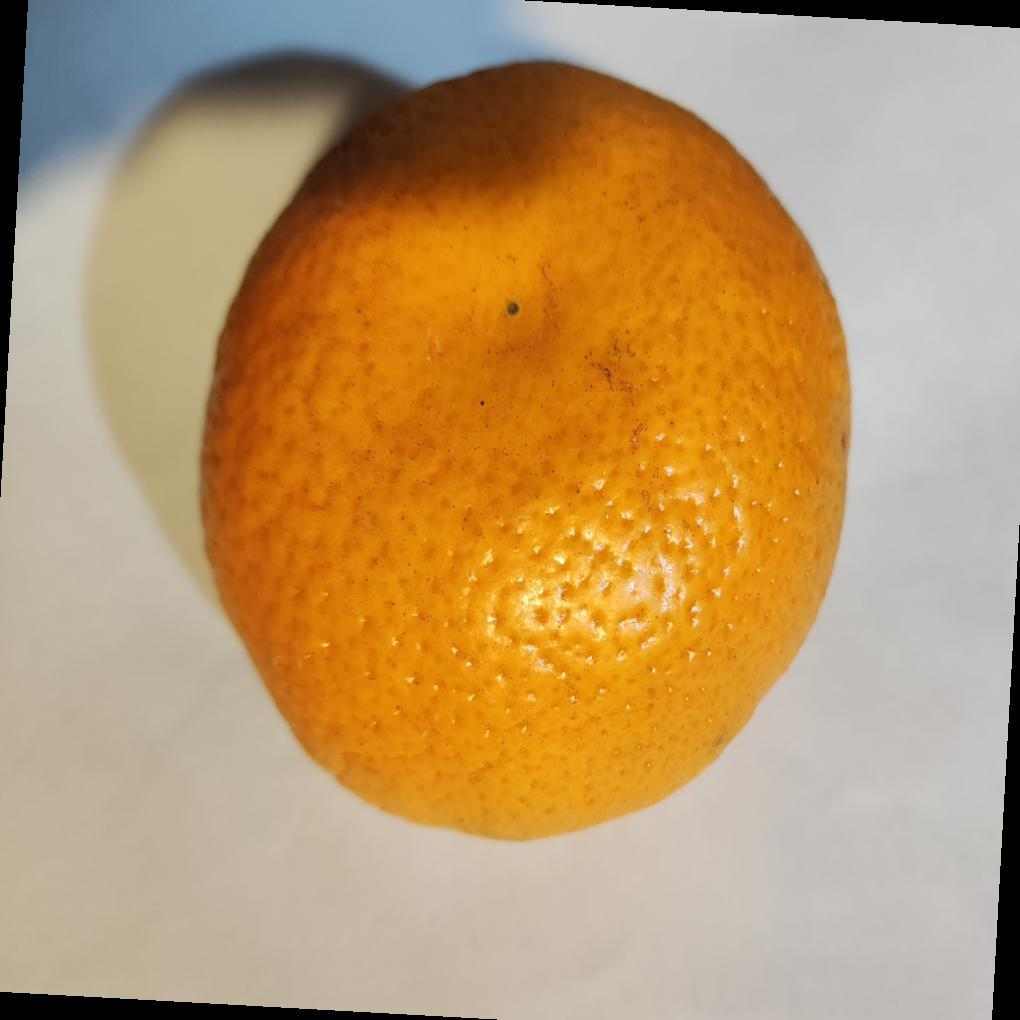FreshGuava: (196, 60, 853, 847)
